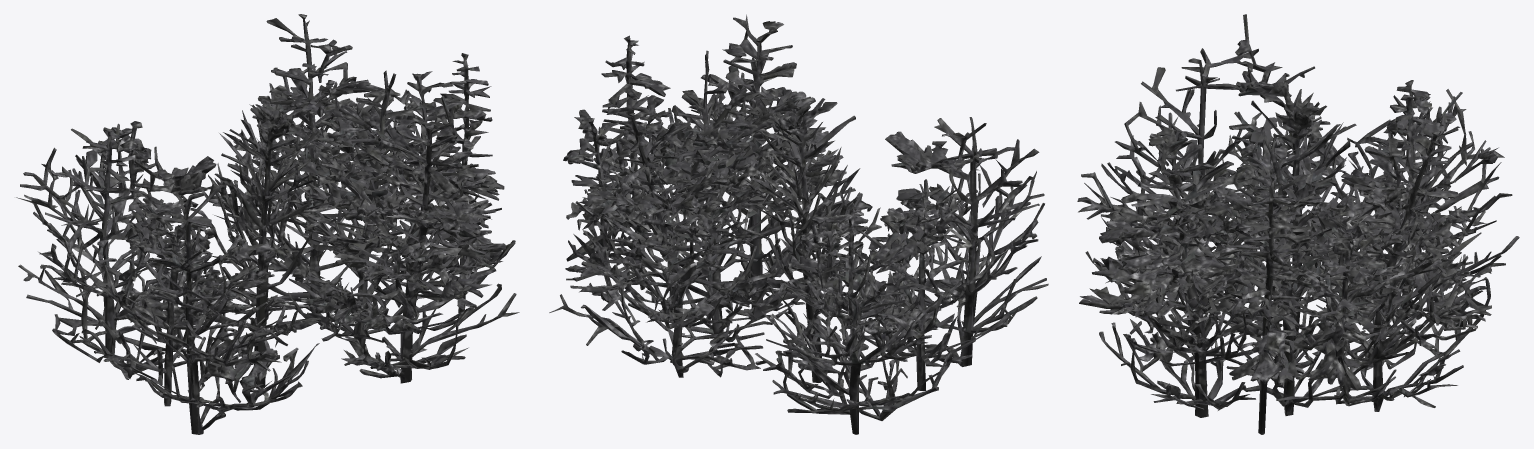
Rendered from hero-spruce-v4.glb.
The picture shows the model from 3 angles, left to right: view 1: azimuth 30°, elevation 25°; view 2: azimuth 150°, elevation 25°; view 3: azimuth 270°, elevation 25°; orthographic projection. The views are drawn at different scales.
Visible parts, largest first — view 1: geometry_0; view 2: geometry_0; view 3: geometry_0.
Part boxes in pixels (left/top/right/bottom): geometry_0: left=16, top=14, right=519, bottom=434; geometry_0: left=549, top=14, right=1048, bottom=434; geometry_0: left=1077, top=14, right=1519, bottom=434.
Bounding box in the file's own units: 20.54 × 15 × 19.69.
Materials: 1 (1 with a texture image).
